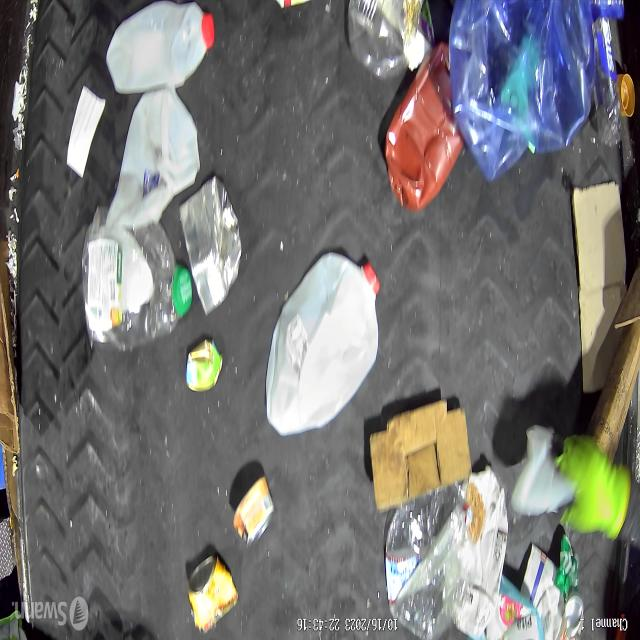can: (179, 172, 241, 315), (186, 550, 238, 633), (232, 474, 273, 547), (553, 536, 582, 635), (186, 339, 223, 392)
milk_jug: (267, 252, 380, 438), (108, 90, 200, 228), (104, 0, 214, 95)
non_white_jug: (384, 42, 465, 214), (457, 467, 508, 638)
plastic_bottle: (448, 0, 596, 184), (81, 214, 193, 348), (384, 485, 459, 638), (348, 0, 405, 78), (592, 16, 620, 134)
